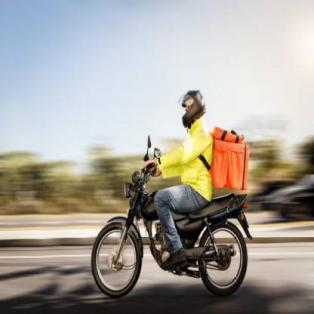Motocicleta: (88, 134, 254, 300)
